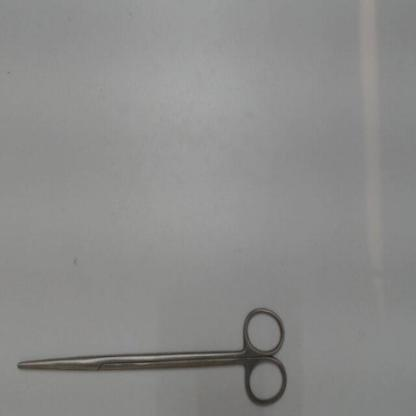9 Metzenbaum Scissors: (17, 303, 291, 409)
